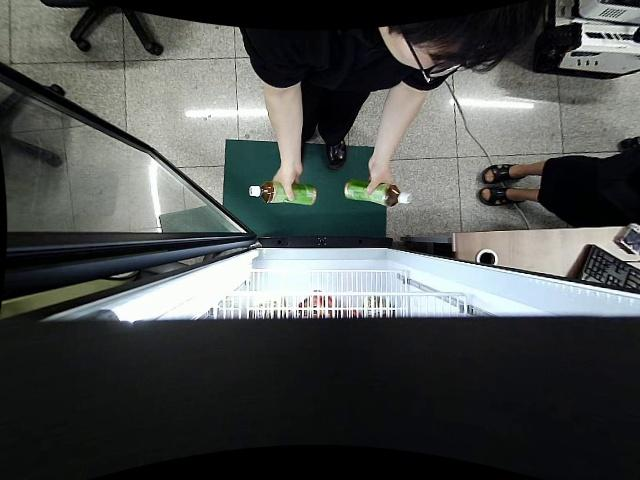00_hand: (270, 164, 304, 202), (363, 157, 395, 195)
19_17cha: (343, 180, 414, 211), (248, 179, 318, 209)
